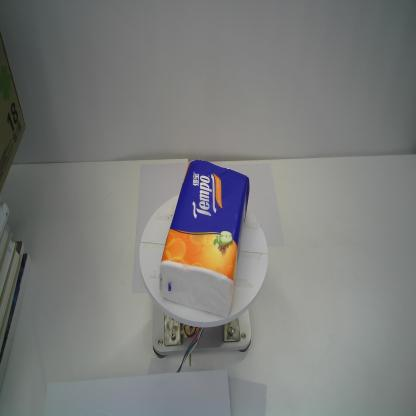Tissue: (158, 160, 250, 318)
